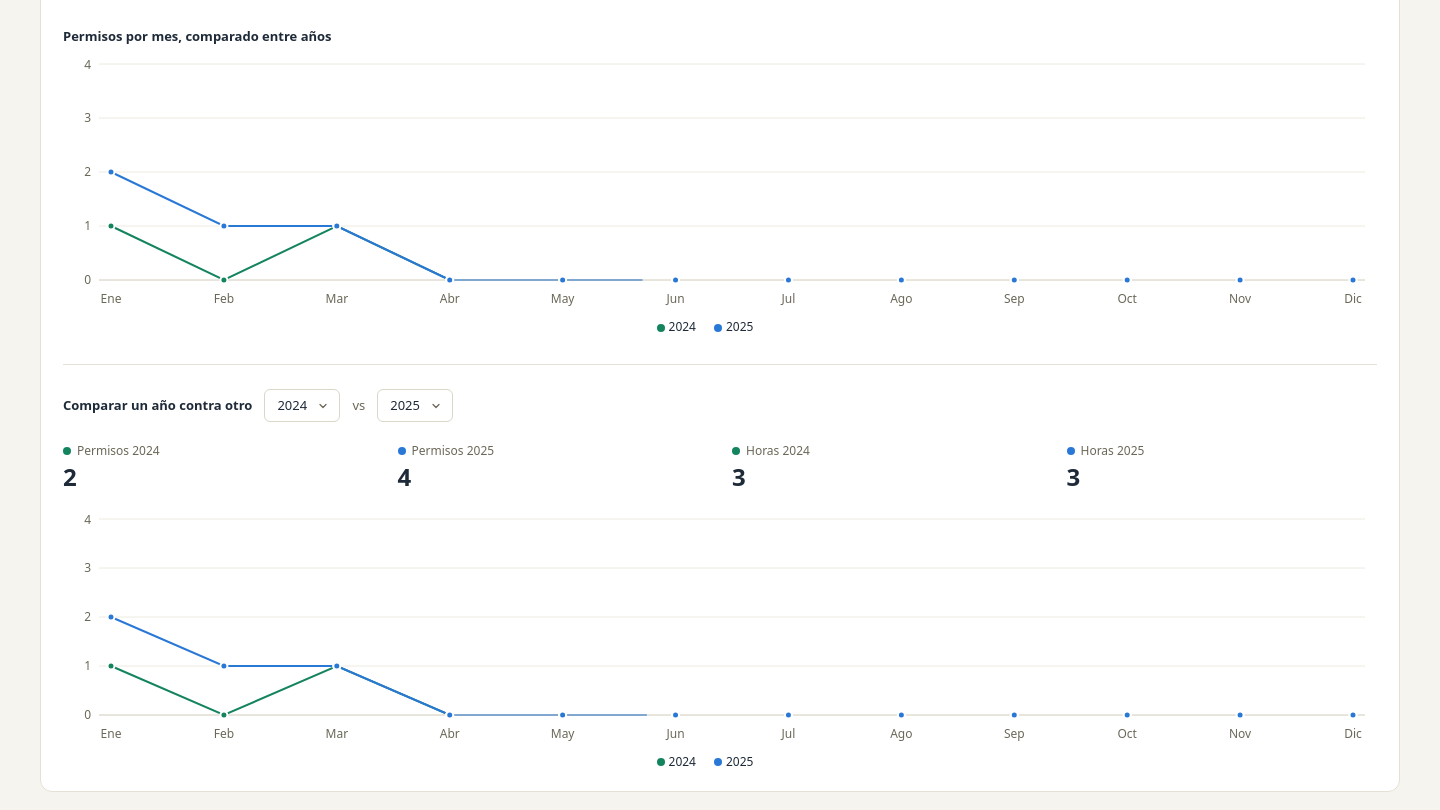
it: Dashboard › el comparador con el mismo año en los dos lados lo muestra una sola vez
(page scrolled)
Select "2025" in the dropdown named "Primer año" at x=302, y=406, box [264,389,340,422]
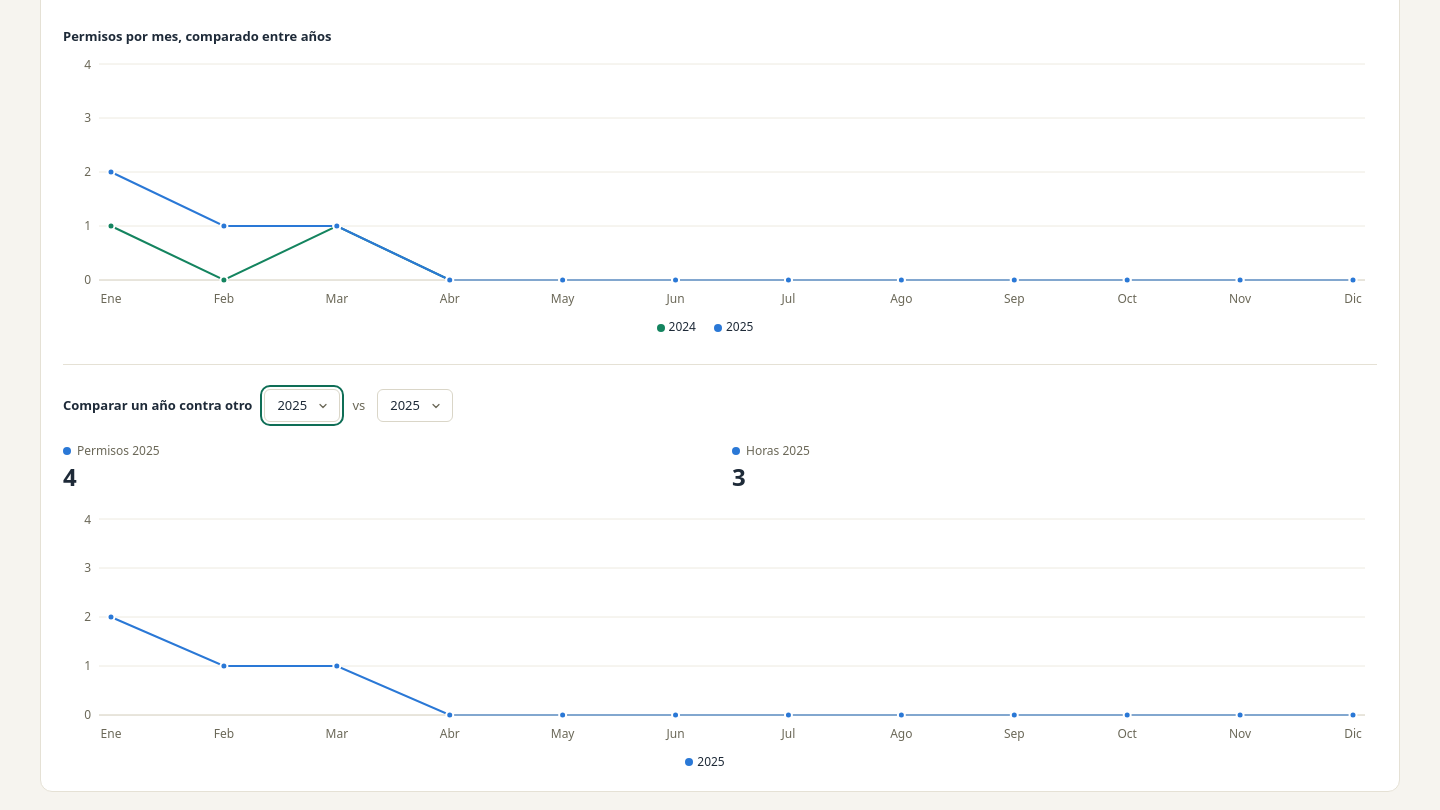
Check: the text "Permisos 2025" is shown once, box [63,442,160,459]
Check: the text "Permisos 2024" is gone
